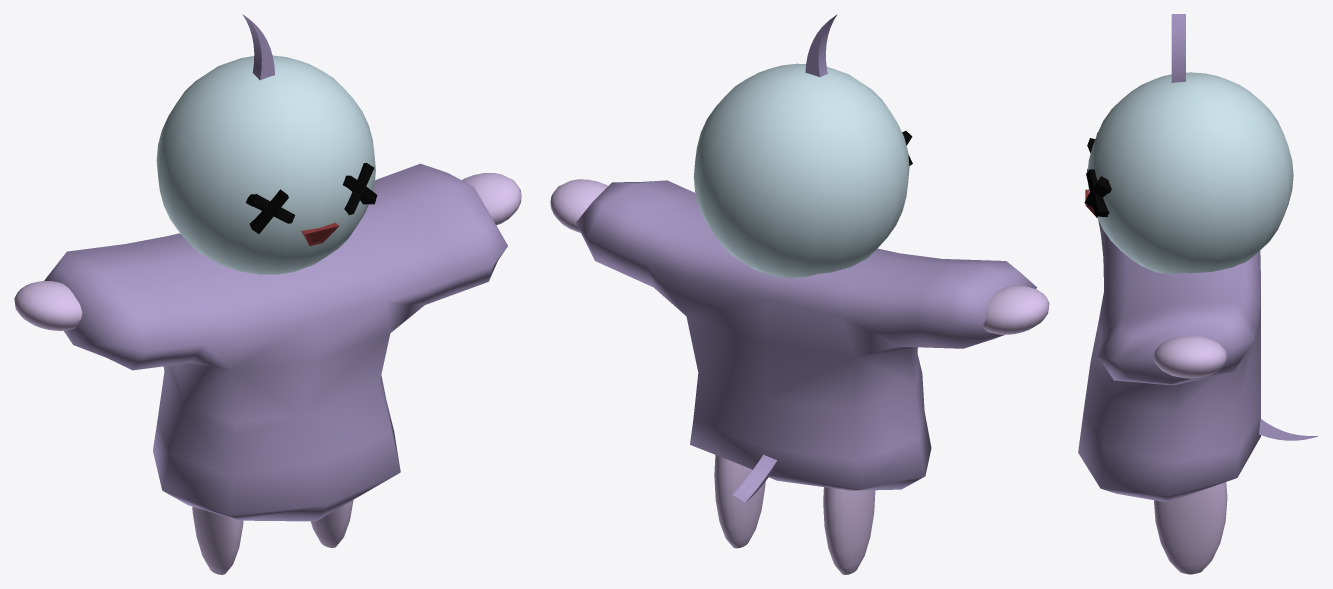
The model's file is LostsoulFBX.fbx.
3 renders of one model, left to right at view 1: azimuth 30°, elevation 25°; view 2: azimuth 150°, elevation 25°; view 3: azimuth 270°, elevation 25°, orthographic. The views are drawn at different scales.
Parts seen in each view (by area): view 1: pCube2, pSphere9, pSphere11, pSphere7, pSphere8, pSphere10, pCube4; view 2: pCube2, pSphere9, pSphere7, pSphere10, pSphere11, pSphere8, pCube4, pCube10; view 3: pCube2, pSphere9, pSphere10, pSphere8, pCube4, pCube10, pCube8, pCube7.
Boxes of the visible parts, x1,y1,x2,y2 form: pCube2: (44, 163, 507, 521); pSphere9: (156, 55, 375, 274); pSphere11: (14, 281, 82, 330); pSphere7: (192, 506, 243, 574); pSphere8: (462, 173, 521, 225); pSphere10: (310, 500, 353, 547); pCube4: (242, 14, 274, 80); pCube2: (576, 180, 1036, 490); pSphere9: (693, 63, 909, 277); pSphere7: (823, 487, 875, 574); pSphere10: (714, 455, 765, 548); pSphere11: (983, 285, 1049, 334); pSphere8: (550, 179, 607, 232); pCube4: (805, 14, 837, 77); pCube10: (733, 454, 777, 502); pCube2: (1078, 219, 1260, 502); pSphere9: (1088, 72, 1293, 273); pSphere10: (1154, 482, 1227, 574); pSphere8: (1153, 335, 1227, 378); pCube4: (1171, 14, 1185, 82); pCube10: (1259, 419, 1318, 440); pCube8: (1086, 169, 1109, 217); pCube7: (1084, 176, 1111, 207).
Size of the model in its own units: 14.52 by 15.55 by 6.52.
